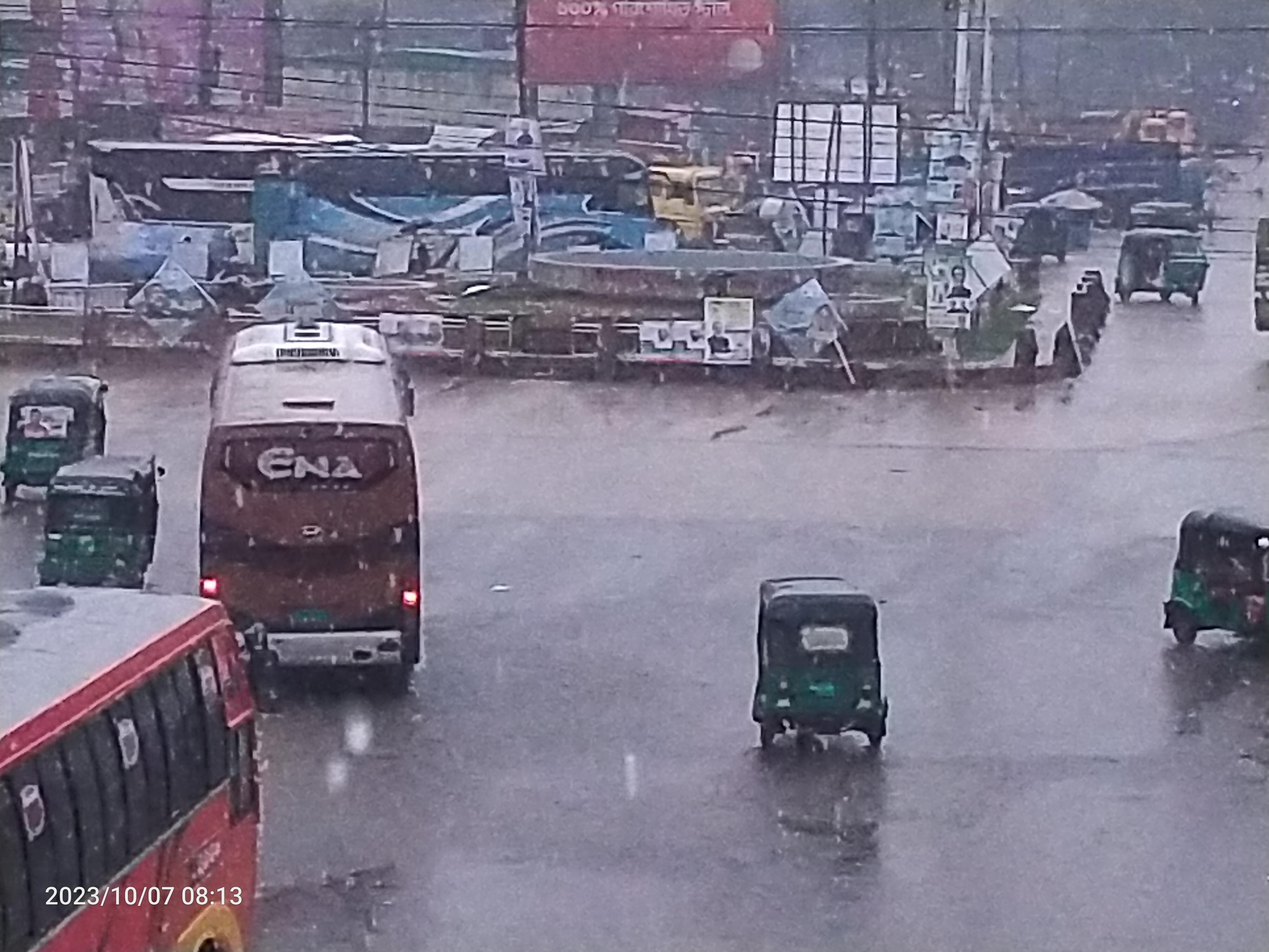Bus: (168, 290, 477, 730), (0, 572, 284, 952), (231, 128, 692, 326), (63, 116, 301, 308)
Truck: (628, 137, 751, 264)
